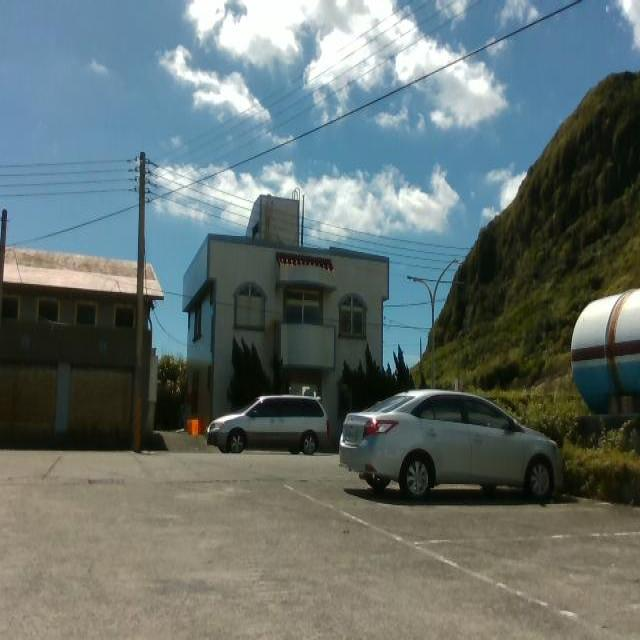pollute: (183, 419, 201, 439)
